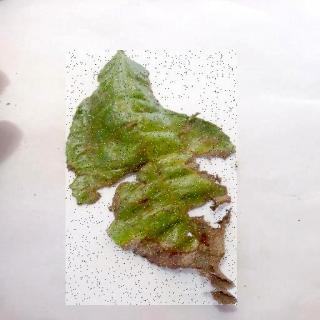Algal Leaf: (67, 52, 238, 307)
